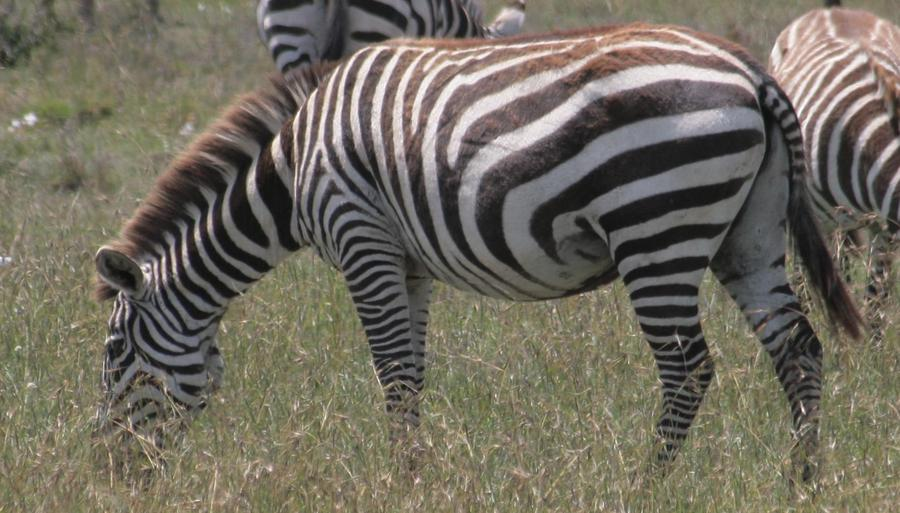zebra_plains: (285, 8, 777, 315)
